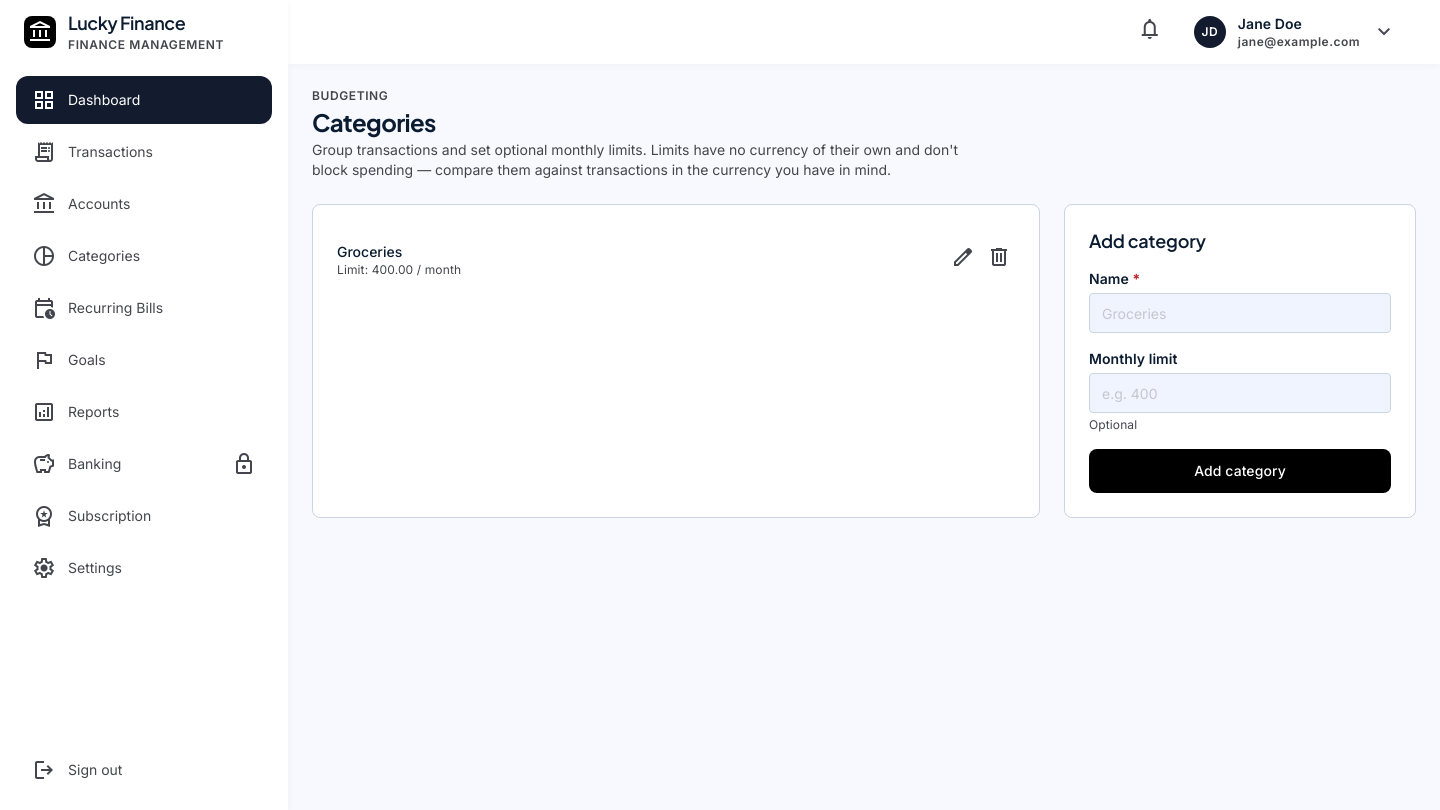
CategoriesPage › deletes a category only after explicit confirmation
Expected: the text "Groceries" is shown, [337,243,402,260]
Click the button titled "Delete" at [999, 260], box [983,241,1015,279]
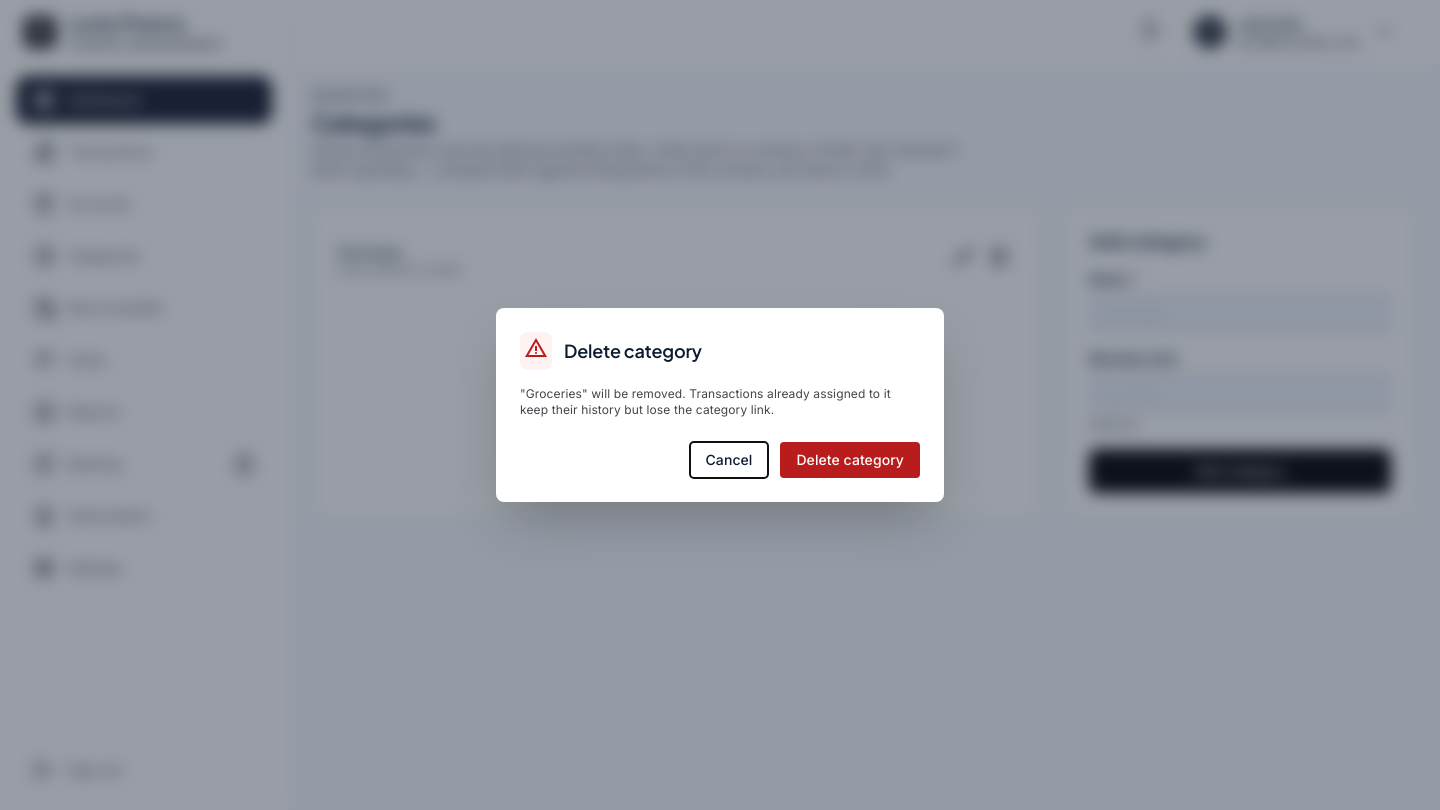
Expected: the text "Groceries" is shown, [520,386,891,417]
Click the button "Cancel" at [729, 460], box [690,442,768,478]
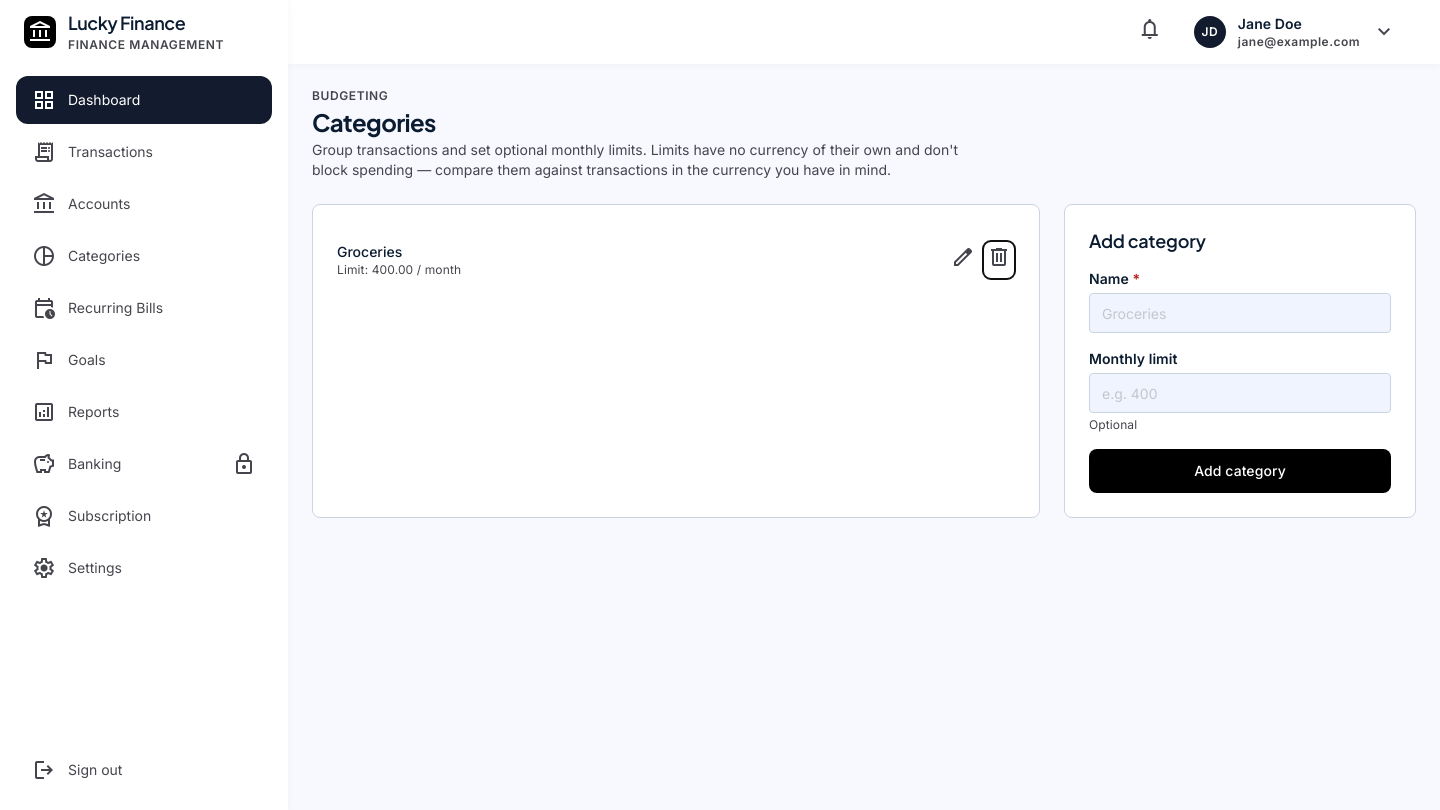
Click the button titled "Delete" at [999, 260], box [983,241,1015,279]
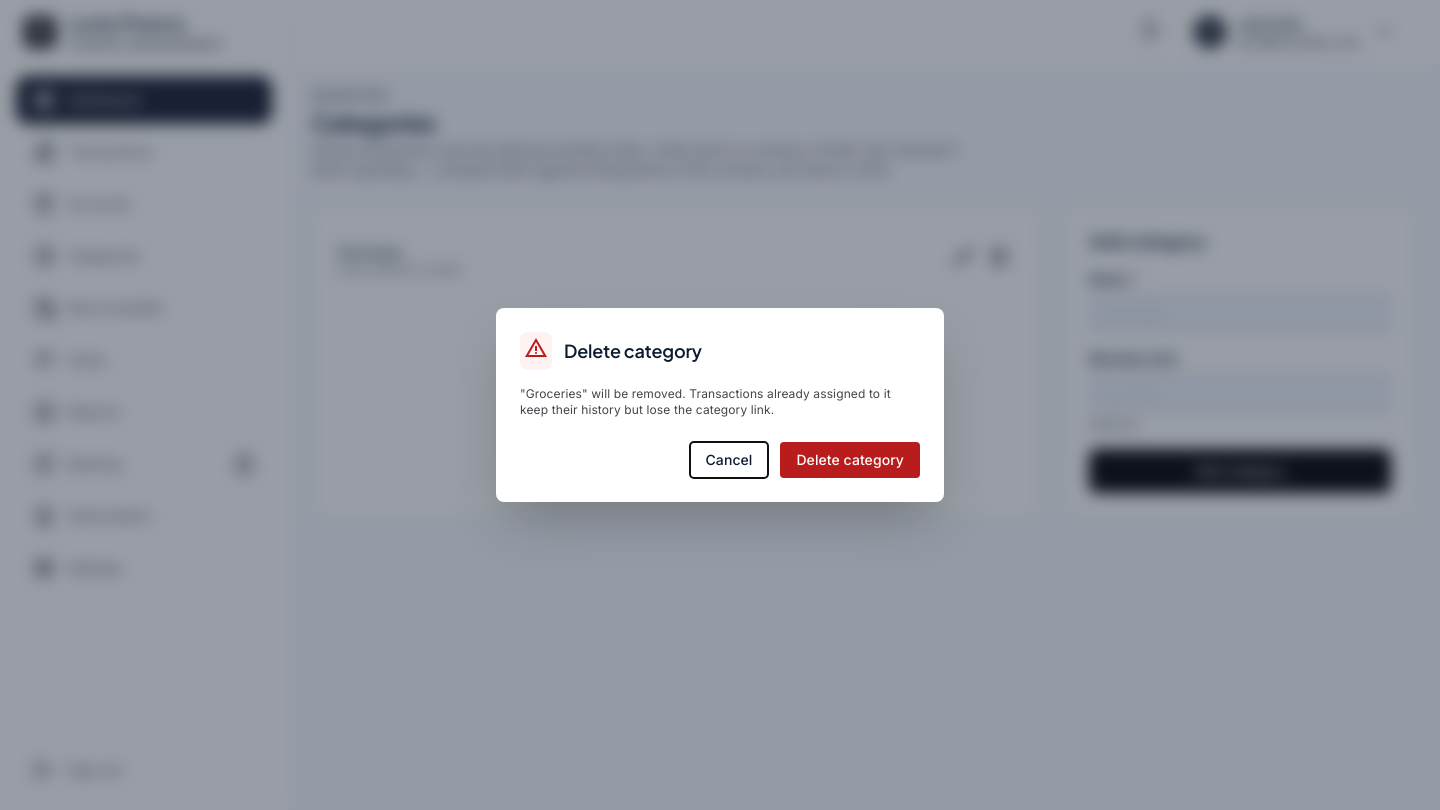
Click the button "Delete category" at [850, 460], box [780,442,920,478]
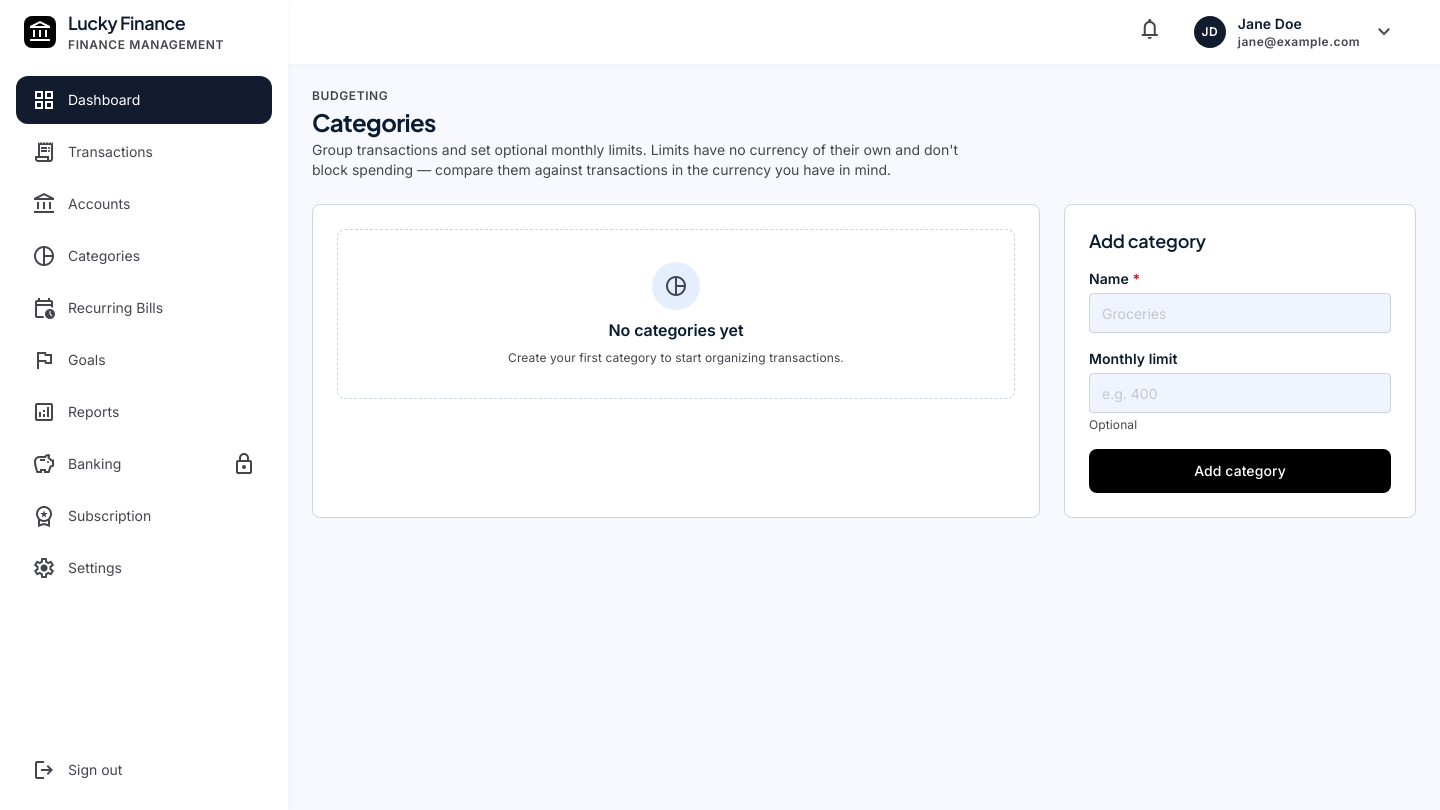
Expected: the text "No categories yet" is shown, [608,318,744,342]
